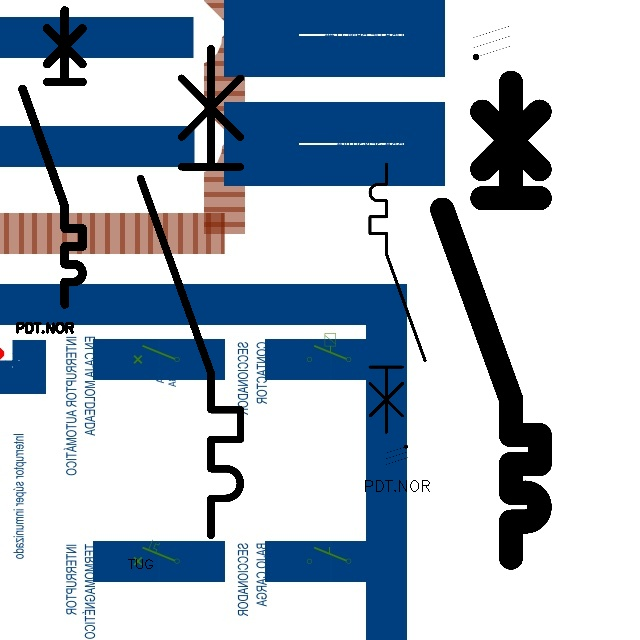interruptor_termomagnetico: (128, 36, 253, 548), (430, 70, 552, 569), (15, 3, 90, 312), (363, 157, 432, 439)
